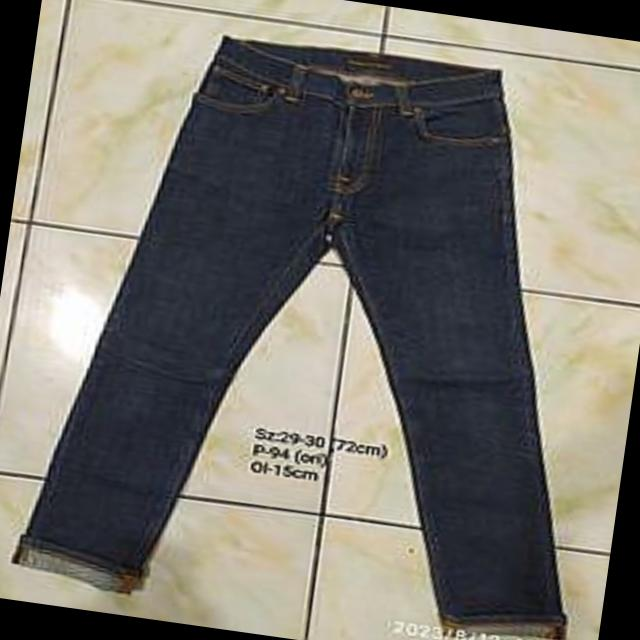TROUSER: (7, 5, 640, 640)
